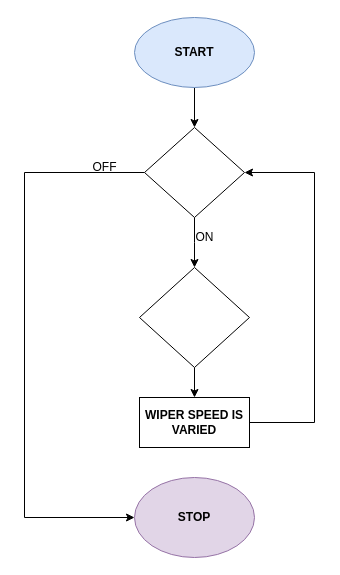
Some shapes in this 340 by 575 pixel diagram are drawn without their labels. The shapes that lost their labels are listed below. From the top down, each one's centre as x and y in pixels, then its label:
At [194,172]: "IGNITION".
At [194,317]: "WIPER SPEED VARIATION".
